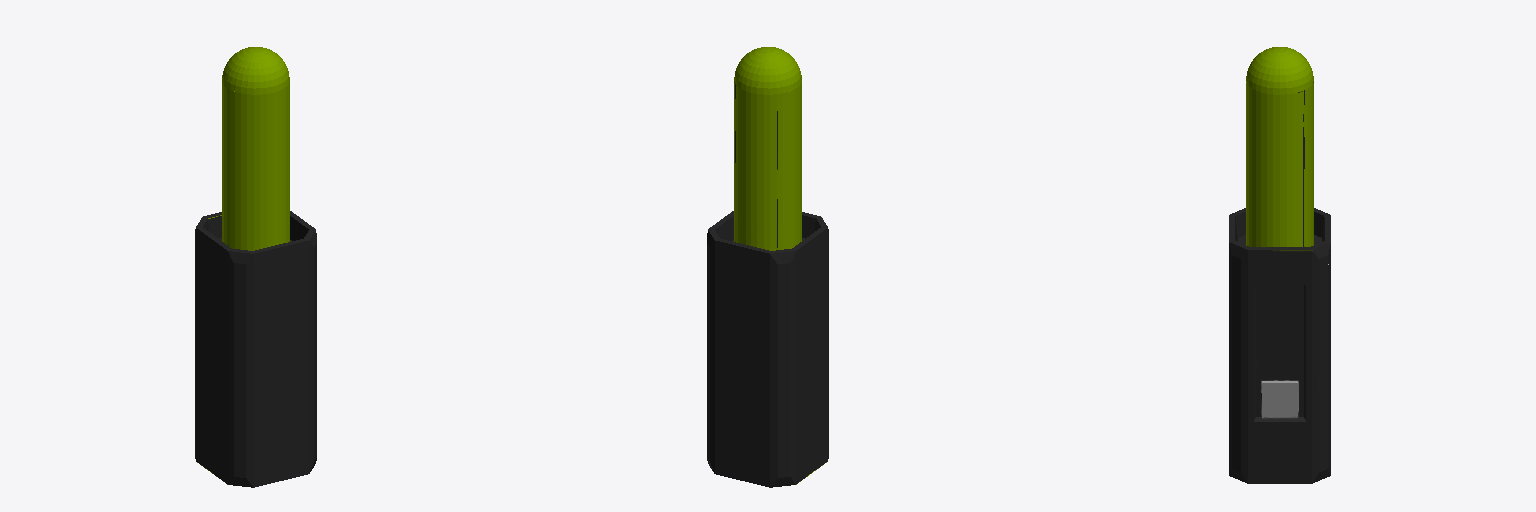
3 views of the same model, side by side, from view 1: azimuth 30°, elevation 25°; view 2: azimuth 150°, elevation 25°; view 3: azimuth 270°, elevation 25° (orthographic).
Visible parts, largest first — view 1: 柱体; view 2: 柱体; view 3: 柱体.
Part boxes in pixels (bbox=[...]): 柱体: bbox=[195, 47, 316, 487]; 柱体: bbox=[707, 47, 828, 487]; 柱体: bbox=[1229, 47, 1330, 483].
Size of the model in its own units: 0.06 by 0.2679 by 0.06.
1 materials, 1 textured.